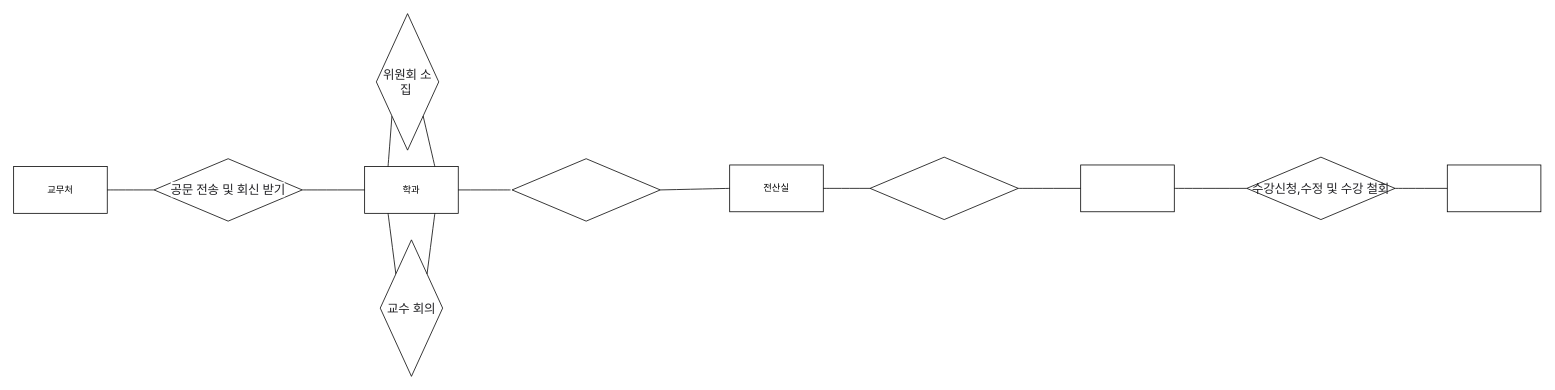
Image size: 1555x390. Some labels were removed from this diagram. Each missing label, with the centre of its shape:
"su wings" belongs at (x=1127, y=188).
"교무처에 승인 받고 전산실에 내용 전달" belongs at (x=585, y=189).
"수윙스에 등록" belongs at (x=943, y=188).
"학생" belongs at (x=1494, y=188).
